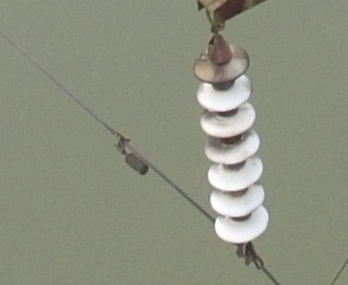damper_defect: (109, 132, 150, 177)
